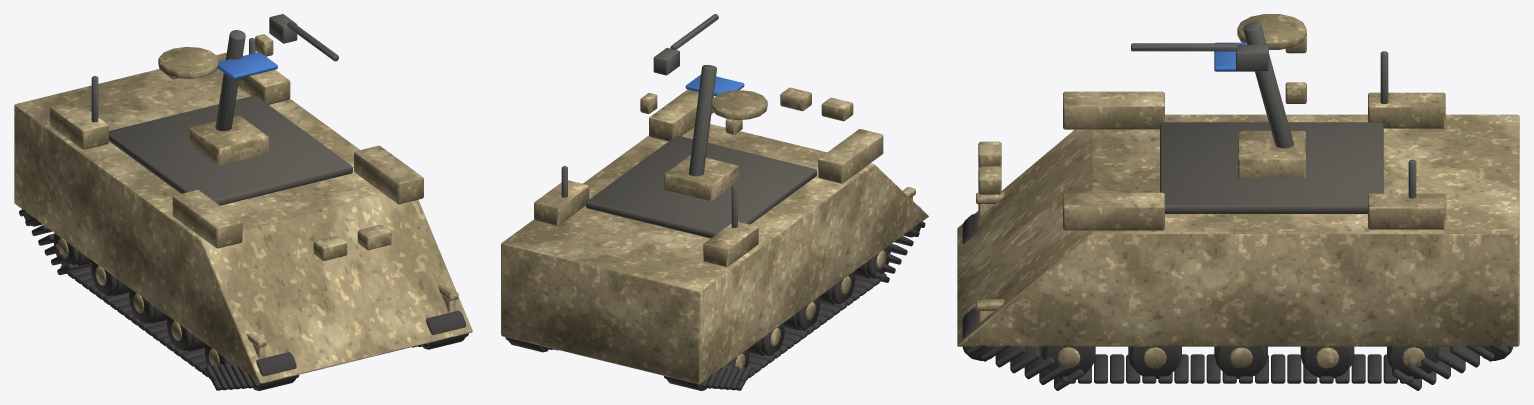
Rendered from art_e4_us_mortar_LOD0.glb.
3 views of the same model, side by side, from view 1: azimuth 30°, elevation 25°; view 2: azimuth 150°, elevation 25°; view 3: azimuth 270°, elevation 25° (orthographic). The views are drawn at different scales.
Parts seen in each view (by area): view 1: art_e4_us_mortar_LOD0_body, art_e4_us_mortar_LOD0_deck, art_e4_us_mortar_LOD0_track, art_e4_us_mortar_LOD0_gun, art_e4_us_mortar_LOD0_team; view 2: art_e4_us_mortar_LOD0_body, art_e4_us_mortar_LOD0_deck, art_e4_us_mortar_LOD0_track, art_e4_us_mortar_LOD0_gun, art_e4_us_mortar_LOD0_team; view 3: art_e4_us_mortar_LOD0_body, art_e4_us_mortar_LOD0_deck, art_e4_us_mortar_LOD0_track, art_e4_us_mortar_LOD0_gun, art_e4_us_mortar_LOD0_team.
Boxes of the visible parts, x1=… form: art_e4_us_mortar_LOD0_body: x1=14, y1=34, x2=472, y2=383; art_e4_us_mortar_LOD0_deck: x1=108, y1=95, x2=352, y2=205; art_e4_us_mortar_LOD0_track: x1=19, y1=209, x2=468, y2=390; art_e4_us_mortar_LOD0_gun: x1=91, y1=14, x2=338, y2=131; art_e4_us_mortar_LOD0_team: x1=218, y1=52, x2=277, y2=79; art_e4_us_mortar_LOD0_body: x1=501, y1=87, x2=928, y2=384; art_e4_us_mortar_LOD0_deck: x1=586, y1=135, x2=816, y2=238; art_e4_us_mortar_LOD0_track: x1=505, y1=206, x2=925, y2=390; art_e4_us_mortar_LOD0_gun: x1=561, y1=14, x2=737, y2=227; art_e4_us_mortar_LOD0_team: x1=685, y1=74, x2=744, y2=96; art_e4_us_mortar_LOD0_body: x1=957, y1=14, x2=1519, y2=368; art_e4_us_mortar_LOD0_deck: x1=1160, y1=122, x2=1383, y2=213; art_e4_us_mortar_LOD0_track: x1=962, y1=213, x2=1512, y2=390; art_e4_us_mortar_LOD0_gun: x1=1131, y1=22, x2=1416, y2=198; art_e4_us_mortar_LOD0_team: x1=1214, y1=42, x2=1255, y2=71.
Bounding box in the file's own units: 2.9 × 3.56 × 5.79.
5 materials, 1 textured.
